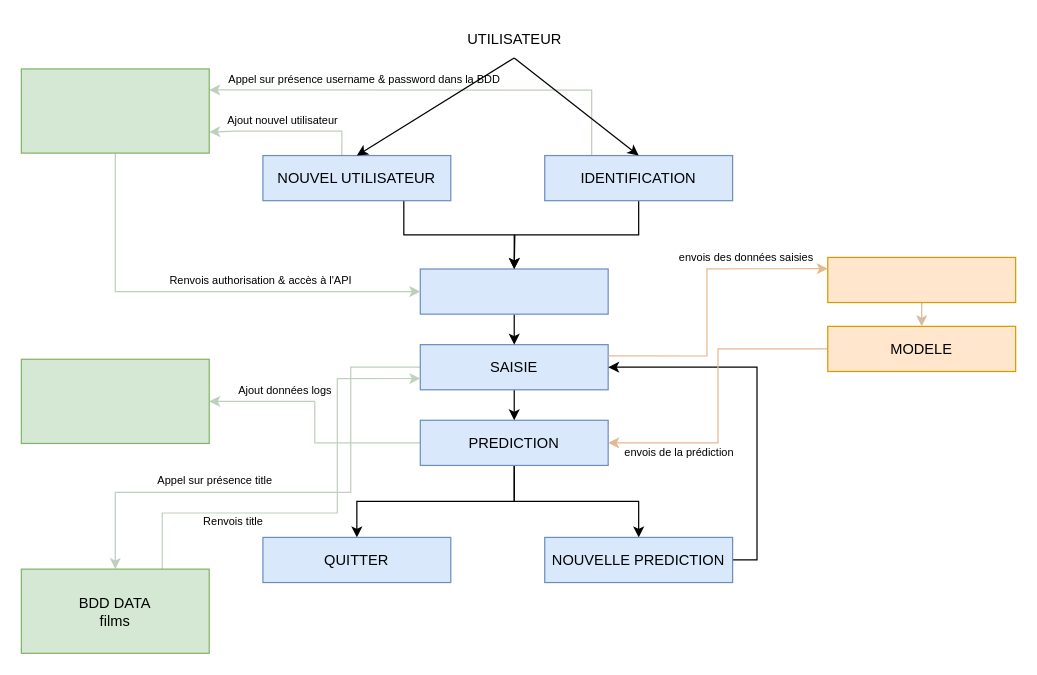
Some shapes in this 1037 by 675 pixel diagram are drawn without their labels. The centre of each missing label's shape, as x and y in pixels:
API: the point at 513,291
BDD LOGS predictions: the point at 114,400
BDD UTILISATEURS users: the point at 114,110
TRANSFORMATION: the point at 921,279
